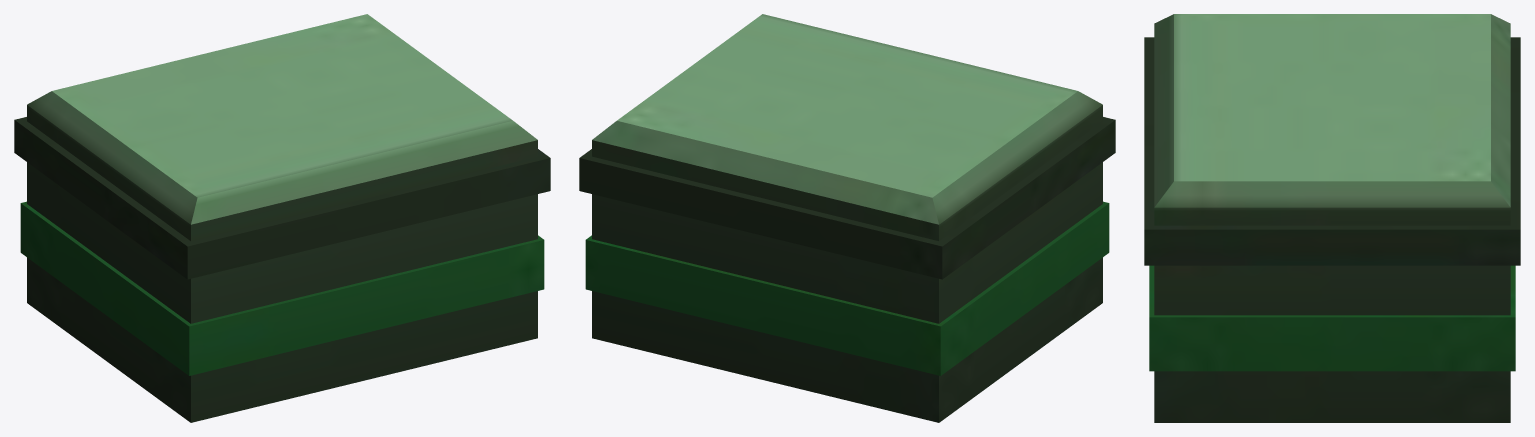
Rendered from buffer-chest.glb.
3 renders of one model, left to right at view 1: azimuth 30°, elevation 25°; view 2: azimuth 150°, elevation 25°; view 3: azimuth 270°, elevation 25°, orthographic. The views are drawn at different scales.
Visible parts, largest first — view 1: buffer-chest; view 2: buffer-chest; view 3: buffer-chest.
Boxes of the visible parts, box(x1,y1,x2,y2) form: buffer-chest: box(14, 14, 550, 422); buffer-chest: box(579, 14, 1115, 422); buffer-chest: box(1144, 14, 1520, 422).
Bounding box in the file's own units: 0.23 × 0.13 × 0.19.
1 material, 1 textured.
